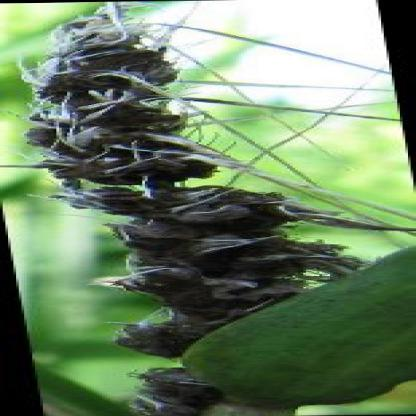Wheat Smut: (141, 244, 310, 261), (29, 70, 165, 88), (139, 263, 296, 278), (124, 225, 271, 241), (33, 127, 163, 144), (142, 207, 284, 222), (51, 161, 201, 175), (51, 146, 189, 160), (45, 111, 167, 125), (55, 55, 160, 69), (130, 280, 224, 294), (59, 93, 145, 108), (156, 192, 248, 204), (161, 296, 224, 310), (235, 280, 268, 306), (74, 192, 134, 206), (66, 27, 121, 42), (140, 393, 213, 404), (175, 312, 222, 326), (133, 406, 198, 416), (128, 328, 192, 338), (148, 381, 208, 391), (314, 247, 346, 265), (124, 339, 190, 347), (139, 369, 191, 379), (70, 46, 130, 53), (147, 178, 170, 188), (146, 349, 183, 354), (272, 285, 287, 295), (257, 195, 276, 202), (74, 20, 93, 27), (68, 178, 79, 189), (227, 308, 243, 312)
